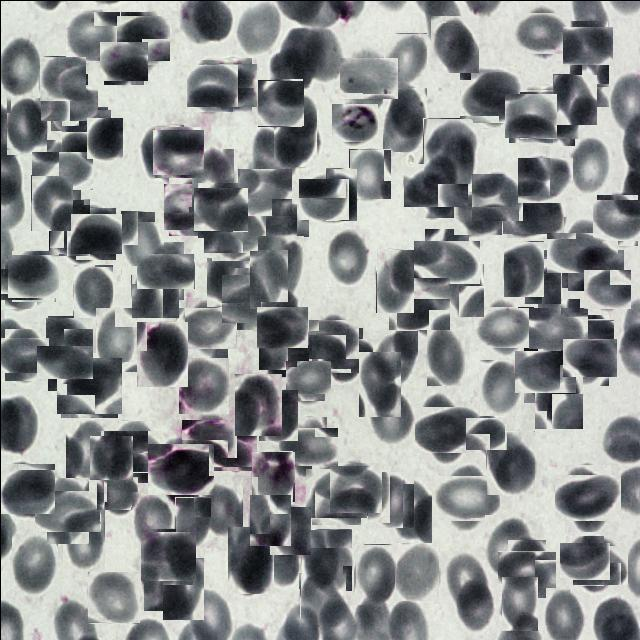red blood cell: (58, 354, 119, 415), (151, 438, 209, 498), (275, 28, 334, 86), (136, 321, 188, 386), (389, 274, 447, 332), (414, 401, 472, 458), (460, 68, 518, 125), (504, 178, 562, 235), (422, 117, 472, 183), (554, 223, 610, 280), (274, 94, 318, 166), (300, 528, 351, 590), (227, 526, 274, 593), (559, 470, 615, 526), (485, 430, 534, 494), (522, 86, 578, 142), (484, 514, 533, 577), (438, 470, 493, 526), (225, 270, 280, 326), (533, 366, 582, 428), (257, 236, 303, 302), (418, 234, 474, 288), (40, 483, 94, 538), (207, 202, 262, 256), (308, 466, 363, 520), (382, 84, 426, 151), (250, 125, 296, 189), (408, 158, 462, 212), (234, 373, 281, 435), (11, 532, 57, 595), (0, 460, 53, 514), (429, 14, 478, 72), (142, 549, 188, 610), (178, 357, 228, 413), (358, 352, 400, 418), (120, 210, 163, 274), (131, 491, 176, 552), (94, 306, 136, 371), (66, 418, 110, 480), (86, 570, 138, 622), (66, 9, 118, 61), (518, 345, 570, 397), (238, 165, 290, 217), (165, 180, 217, 232), (142, 530, 194, 582), (62, 506, 104, 570), (366, 389, 414, 445), (366, 470, 413, 527), (138, 124, 183, 183), (180, 302, 232, 353), (105, 425, 156, 477), (391, 476, 431, 542), (191, 148, 233, 210), (478, 300, 528, 352), (372, 330, 417, 387), (353, 543, 395, 604), (325, 228, 369, 286), (394, 542, 438, 600), (520, 154, 570, 205), (130, 264, 178, 317), (162, 557, 203, 619), (568, 136, 611, 195), (562, 316, 612, 366), (36, 145, 86, 195), (533, 302, 583, 352), (342, 52, 392, 102), (472, 172, 522, 222), (330, 464, 380, 514), (194, 184, 244, 234), (299, 572, 345, 626), (282, 422, 332, 471), (118, 13, 168, 62), (375, 248, 413, 312), (516, 8, 566, 56), (571, 244, 619, 294), (478, 358, 520, 415), (5, 96, 46, 154), (383, 32, 426, 87), (30, 174, 72, 230), (506, 91, 554, 140), (48, 198, 89, 255), (262, 527, 300, 588), (576, 540, 624, 588), (502, 544, 550, 592), (154, 128, 202, 176), (502, 240, 543, 296), (568, 49, 608, 106), (200, 482, 242, 536), (206, 60, 253, 108), (185, 414, 232, 462), (234, 2, 279, 52), (552, 73, 596, 124), (250, 450, 294, 501), (426, 326, 464, 385), (442, 262, 483, 316), (45, 78, 92, 125), (9, 252, 56, 299), (249, 250, 287, 308), (248, 493, 290, 545), (208, 422, 255, 468), (188, 62, 235, 108), (142, 247, 188, 294), (258, 303, 304, 350), (72, 263, 112, 317), (446, 554, 486, 608), (322, 332, 368, 378), (63, 108, 109, 154), (46, 316, 92, 362), (72, 210, 118, 256), (300, 175, 346, 221), (256, 80, 302, 126), (594, 196, 640, 242), (566, 334, 612, 380), (348, 148, 390, 198), (262, 327, 308, 372), (454, 191, 500, 236), (39, 56, 85, 101), (565, 22, 610, 68), (206, 257, 248, 306), (310, 316, 355, 361), (41, 339, 86, 384), (258, 198, 304, 242), (523, 250, 560, 304), (258, 389, 297, 440), (454, 575, 490, 630), (501, 576, 537, 630), (0, 332, 44, 376), (101, 38, 145, 82), (562, 538, 606, 582), (270, 506, 310, 554), (585, 267, 628, 311), (90, 435, 132, 479), (174, 496, 210, 547), (325, 167, 356, 220), (0, 262, 40, 303), (288, 358, 328, 397), (86, 117, 122, 158), (98, 474, 136, 512), (466, 414, 504, 452)
ring: (334, 100, 376, 142)
